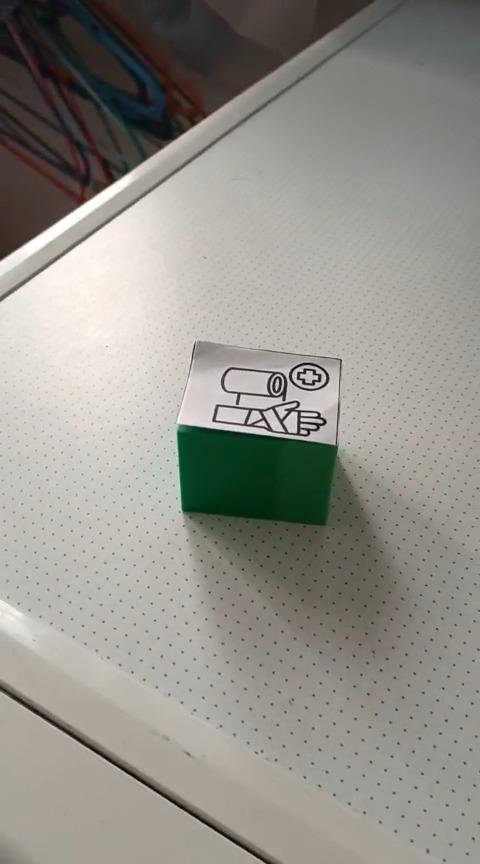Bandages: (175, 340, 343, 527)
